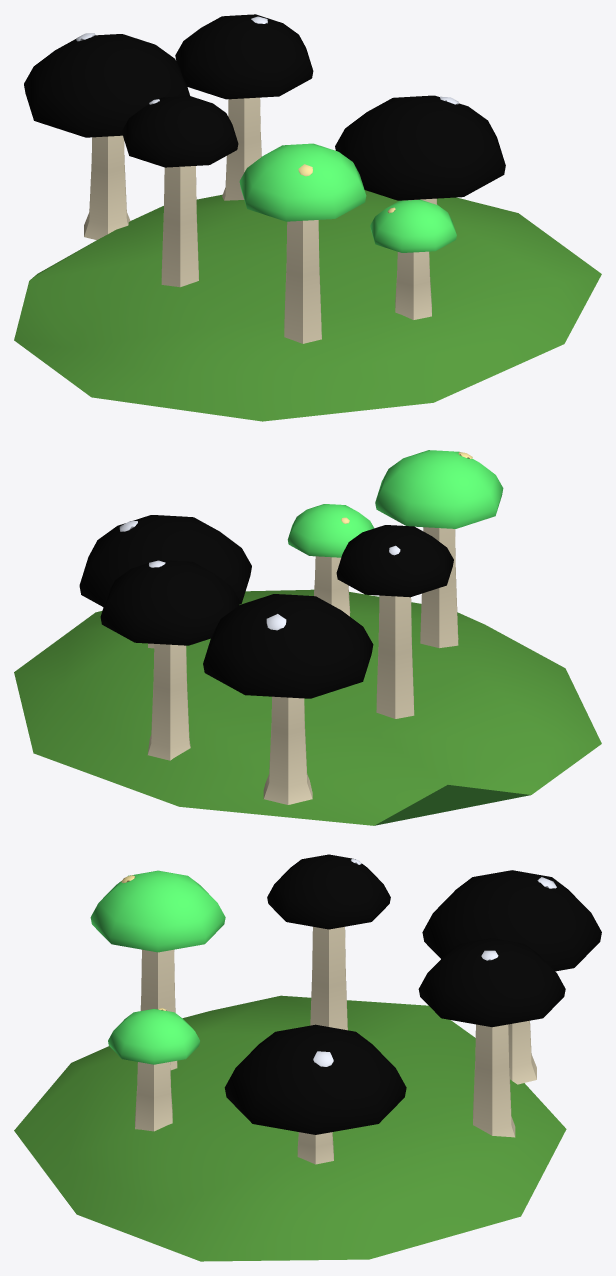
Rendered from ShroomPatch.fbx.
The picture shows the model from 3 angles, top to bottom: view 1: azimuth 30°, elevation 25°; view 2: azimuth 150°, elevation 25°; view 3: azimuth 270°, elevation 25°; orthographic projection. The views are drawn at different scales.
Visible parts, largest first — view 1: ShroomPatch; view 2: ShroomPatch; view 3: ShroomPatch.
Part boxes in pixels (<box>): ShroomPatch: <box>14,14,601,421</box>; ShroomPatch: <box>14,450,601,825</box>; ShroomPatch: <box>14,854,601,1261</box>.
Bounding box in the file's own units: 0.8547 × 0.3533 × 0.8302.
Materials: 2 (2 with a texture image).
